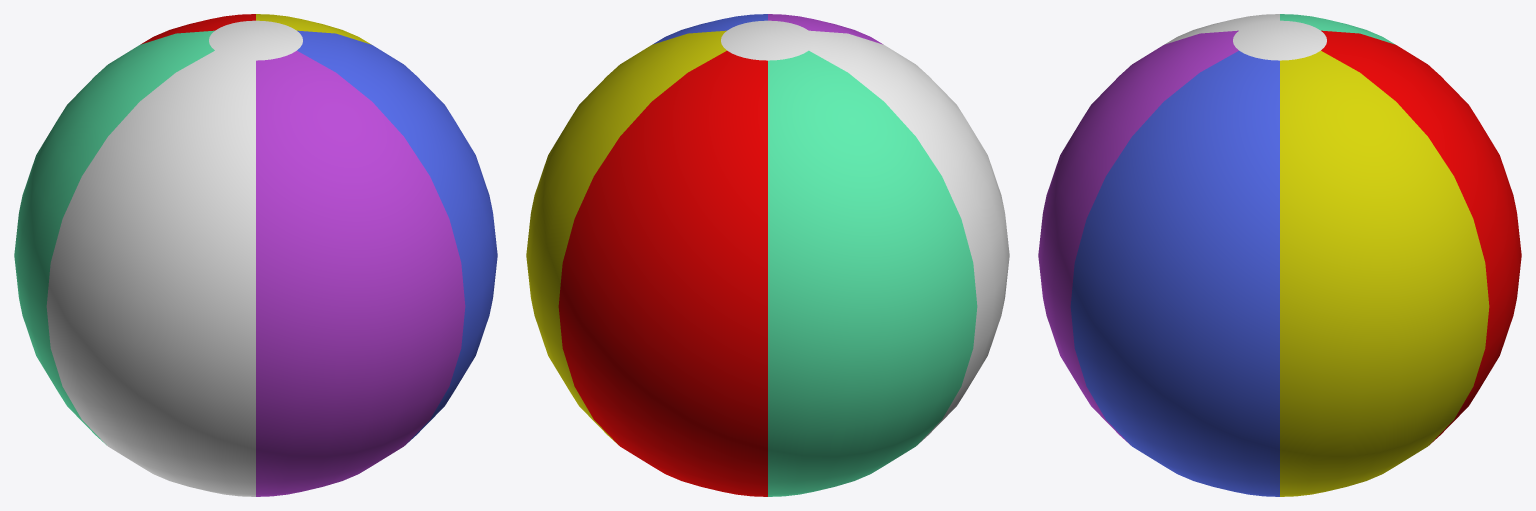
Rendered from BeachBall.fbx.
The picture shows the model from 3 angles, left to right: view 1: azimuth 30°, elevation 25°; view 2: azimuth 150°, elevation 25°; view 3: azimuth 270°, elevation 25°; orthographic projection.
Visible parts, largest first — view 1: Sphere; view 2: Sphere; view 3: Sphere.
Part boxes in pixels (x1=…): Sphere: x1=14, y1=14, x2=497, y2=496; Sphere: x1=526, y1=14, x2=1009, y2=496; Sphere: x1=1038, y1=14, x2=1521, y2=496.
Size of the model in its own units: 200 by 200 by 200.
